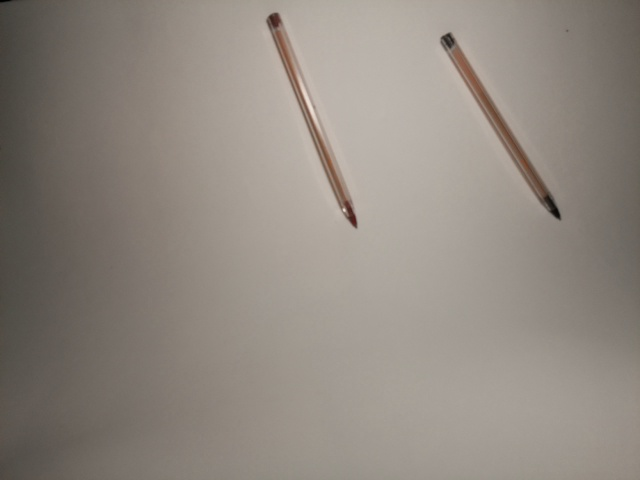Caneta: (431, 31, 567, 220), (262, 11, 368, 228)
